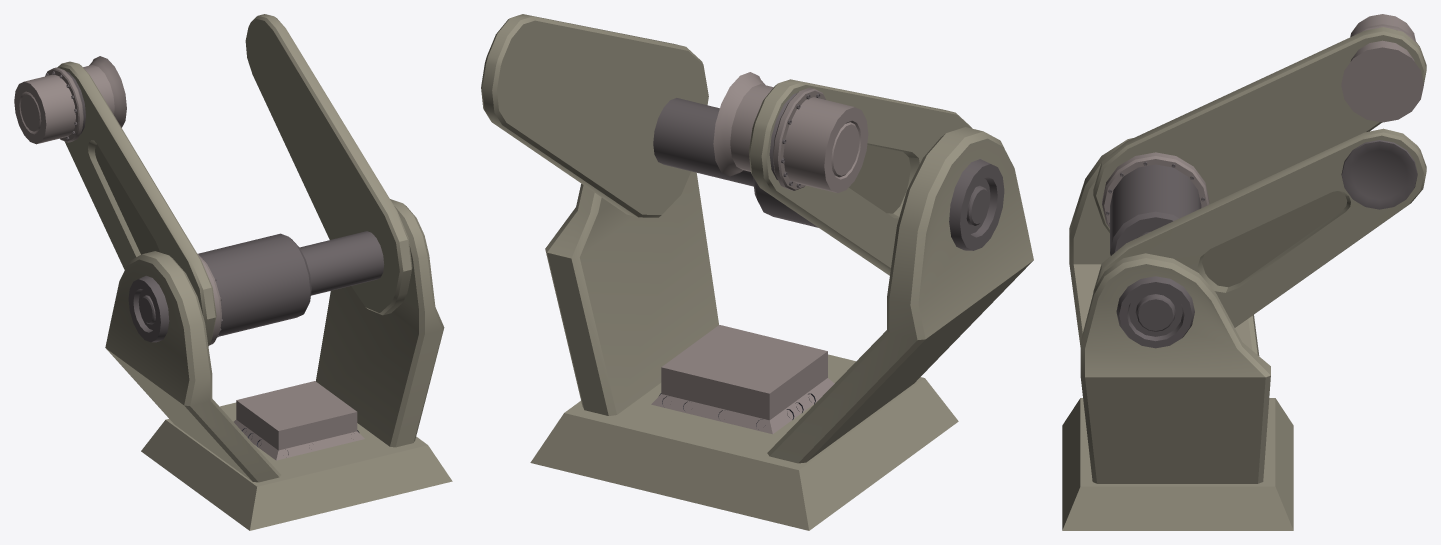
The model's file is Turret_b.fbx.
The picture shows the model from 3 angles, left to right: view 1: azimuth 30°, elevation 25°; view 2: azimuth 150°, elevation 25°; view 3: azimuth 270°, elevation 25°; orthographic projection. The views are drawn at different scales.
Parts seen in each view (by area): view 1: Cube.019, Plane.003, Cylinder.004, Cylinder.005; view 2: Cube.019, Plane.003, Cylinder.005, Cylinder.004; view 3: Cube.019, Plane.003, Cylinder.004, Cylinder.005.
Boxes of the visible parts, x1,y1,x2,y2 form: Cube.019: [105, 199, 452, 530]; Plane.003: [57, 14, 412, 346]; Cylinder.004: [128, 231, 384, 345]; Cylinder.005: [14, 56, 222, 337]; Cube.019: [530, 127, 1033, 530]; Plane.003: [481, 14, 972, 275]; Cylinder.005: [713, 72, 868, 192]; Cylinder.004: [653, 98, 1004, 250]; Cube.019: [1062, 138, 1293, 530]; Plane.003: [1093, 27, 1426, 327]; Cylinder.004: [1102, 140, 1417, 348]; Cylinder.005: [1106, 14, 1423, 225].
Bounding box in the file's own units: 346 × 441 × 375.
